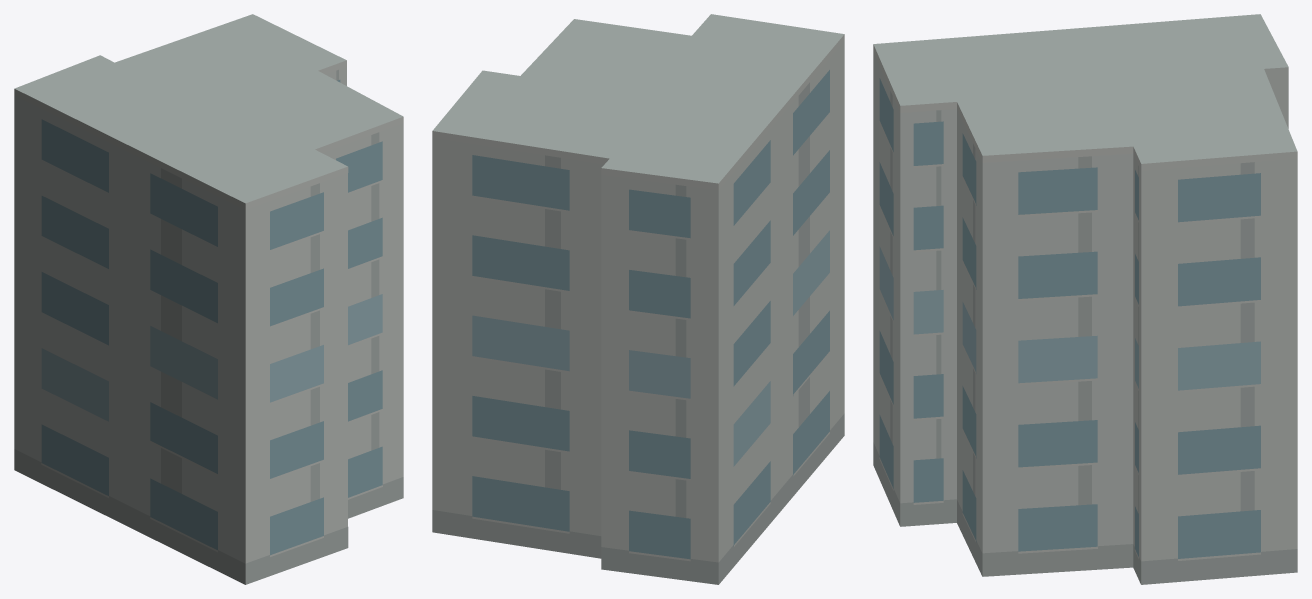
File: survey-upis-33043300.glb
3 views of the same model, side by side, from view 1: azimuth 30°, elevation 25°; view 2: azimuth 150°, elevation 25°; view 3: azimuth 270°, elevation 25° (orthographic). The views are drawn at different scales.
Parts seen in each view (by area): view 1: survey-upis-33043300.tmp; view 2: survey-upis-33043300.tmp; view 3: survey-upis-33043300.tmp.
Part boxes in pixels (x1,y1,x2,y2): survey-upis-33043300.tmp: (14, 14, 403, 584); survey-upis-33043300.tmp: (432, 14, 844, 584); survey-upis-33043300.tmp: (873, 14, 1297, 584).
Bounding box in the file's own units: 10.93 × 14.3 × 13.07.
